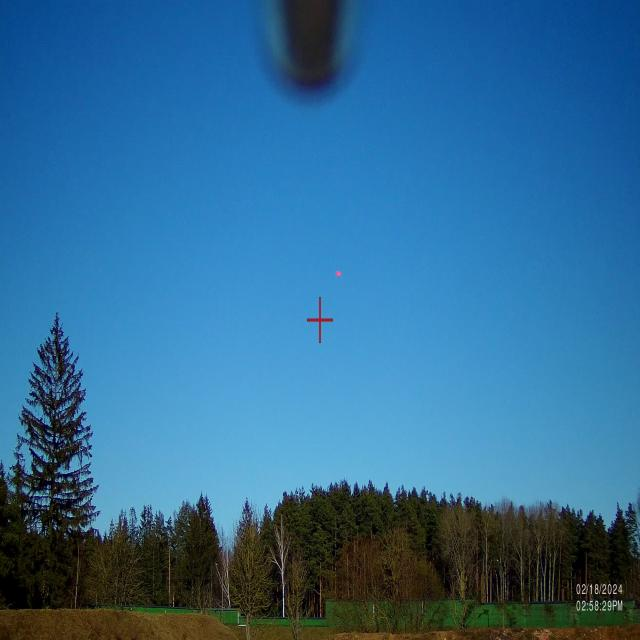entire: (332, 263, 344, 287)
